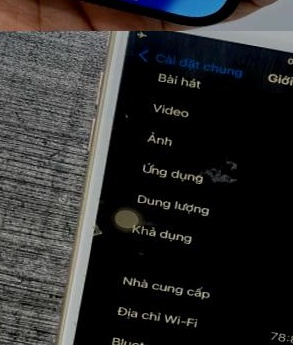physical_damage: (0, 0, 293, 345), (76, 208, 124, 252)
scratch: (185, 147, 261, 201)
